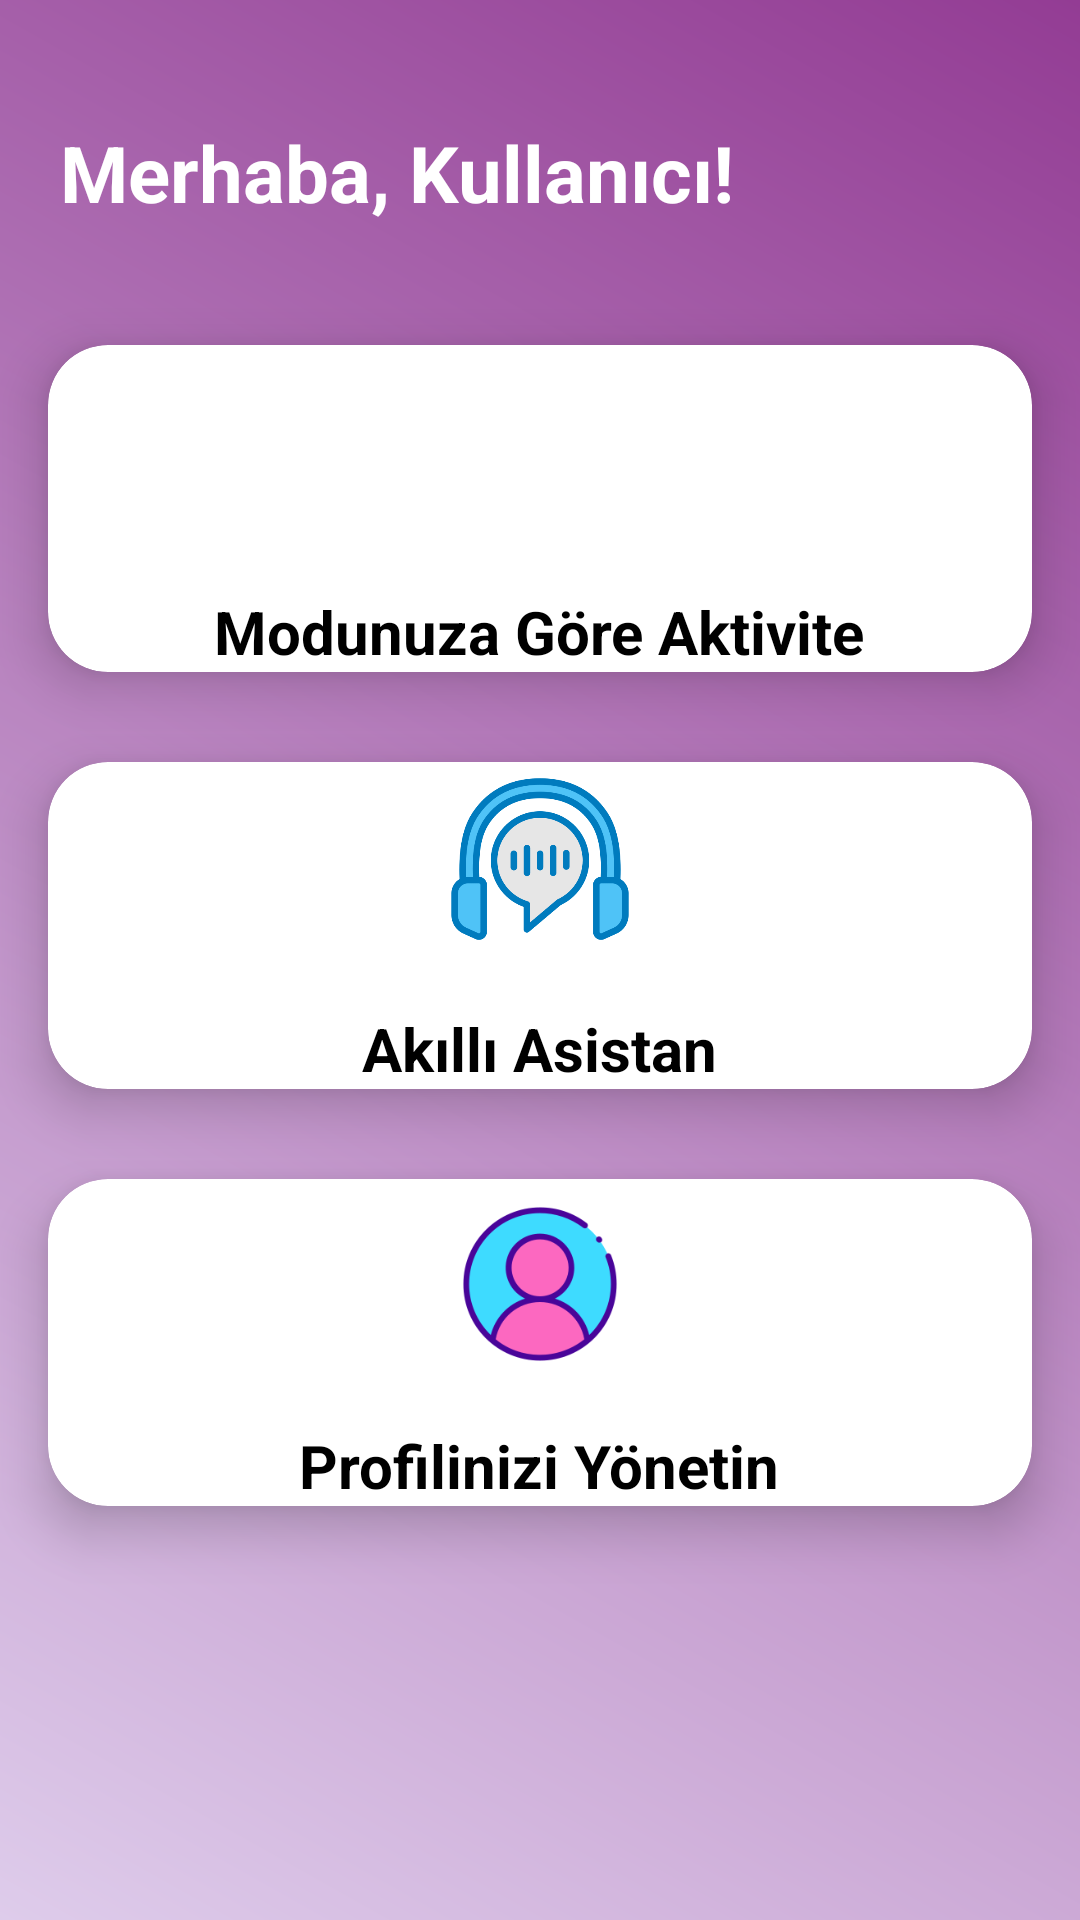

Screen size 1080×1920. Icon name, then its box in pixels as (x1, y1, x2, y2):
assistanicon: (451, 778, 629, 940)
profileicon: (463, 1207, 617, 1361)
